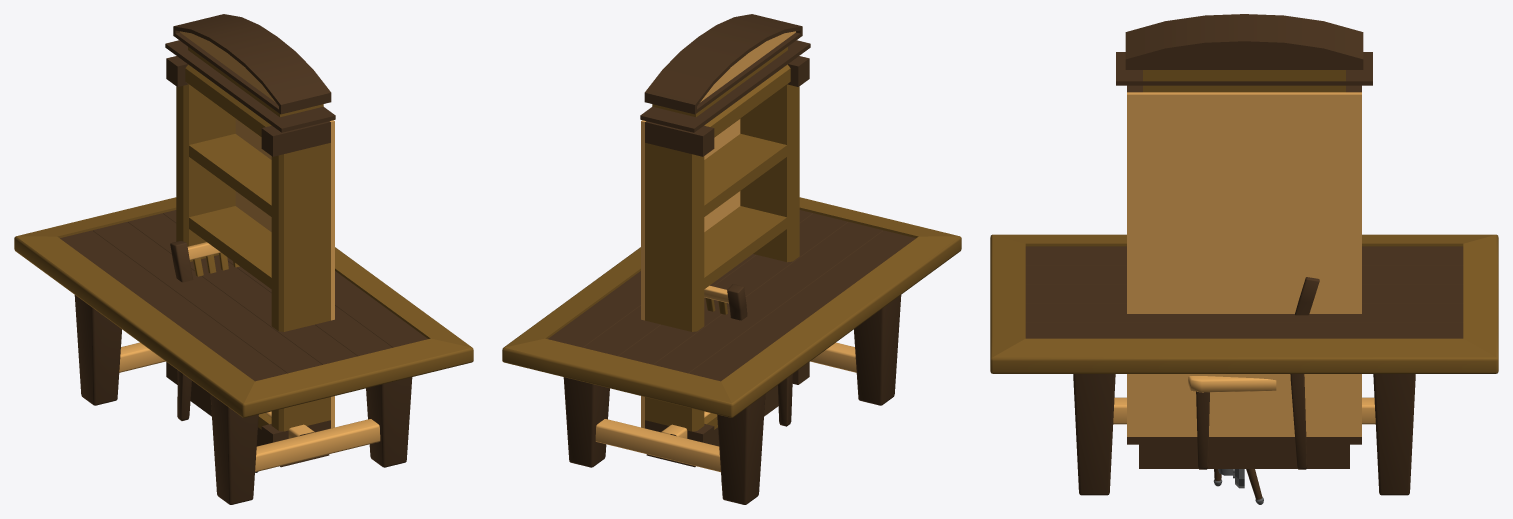
File: Props_01.FBX
3 views of the same model, side by side, from view 1: azimuth 30°, elevation 25°; view 2: azimuth 150°, elevation 25°; view 3: azimuth 270°, elevation 25° (orthographic). The views are drawn at different scales.
Parts seen in each view (by area): view 1: Table_01, Bookshelf_01, Chair_01; view 2: Table_01, Bookshelf_01, Chair_01; view 3: Bookshelf_01, Table_01, Chair_01.
Boxes of the visible parts, x1,y1,x2,y2 form: Table_01: (14, 197, 473, 504); Bookshelf_01: (165, 14, 335, 467); Chair_01: (170, 240, 239, 420); Table_01: (502, 197, 961, 504); Bookshelf_01: (640, 14, 810, 467); Chair_01: (704, 284, 792, 426); Bookshelf_01: (1116, 14, 1372, 468); Table_01: (990, 234, 1498, 495); Chair_01: (1188, 277, 1319, 469).
Size of the model in its own units: 33.4 by 60.21 by 57.56.
